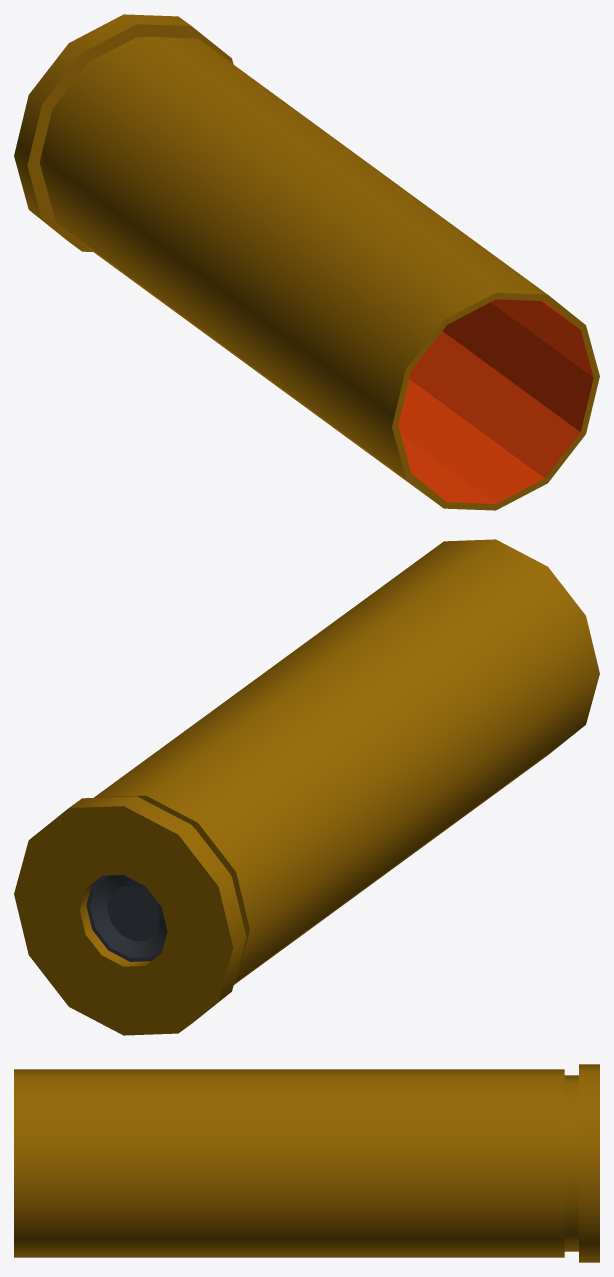
File: bullet_casing.fbx
The picture shows the model from 3 angles, top to bottom: view 1: azimuth 30°, elevation 25°; view 2: azimuth 150°, elevation 25°; view 3: azimuth 270°, elevation 25°; orthographic projection. The views are drawn at different scales.
Parts seen in each view (by area): view 1: bullet7; view 2: bullet7; view 3: bullet7.
Boxes of the visible parts, <box> form: bullet7: <box>14,14,599,510</box>; bullet7: <box>14,539,599,1035</box>; bullet7: <box>14,1064,599,1262</box>.
Size of the model in its own units: 0.5208 by 0.5208 by 1.53.
